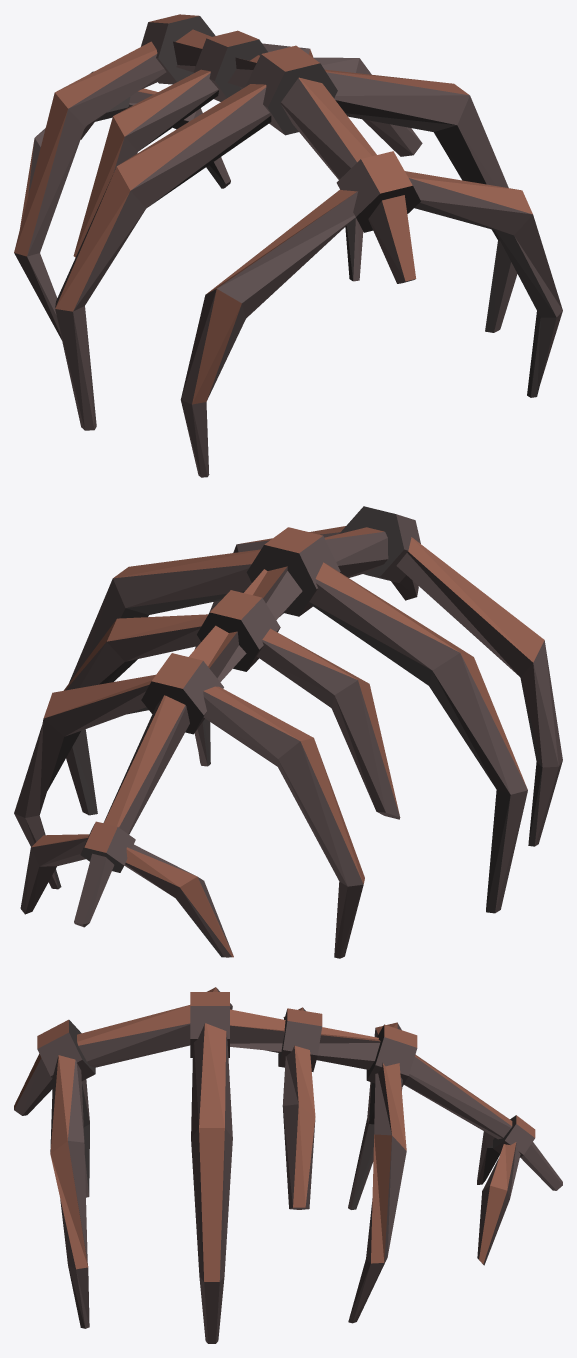
Rendered from TB_D_Env_BoneB_C.FBX.
3 renders of one model, top to bottom at view 1: azimuth 30°, elevation 25°; view 2: azimuth 150°, elevation 25°; view 3: azimuth 270°, elevation 25°, orthographic. The views are drawn at different scales.
Visible parts, largest first — view 1: TB_D_Env_BoneB_C; view 2: TB_D_Env_BoneB_C; view 3: TB_D_Env_BoneB_C.
Part boxes in pixels (x1,y1,x2,y2): TB_D_Env_BoneB_C: [14, 14, 562, 477]; TB_D_Env_BoneB_C: [14, 506, 562, 958]; TB_D_Env_BoneB_C: [14, 987, 562, 1343].
Size of the model in its own units: 4.52 by 2.95 by 5.59.
